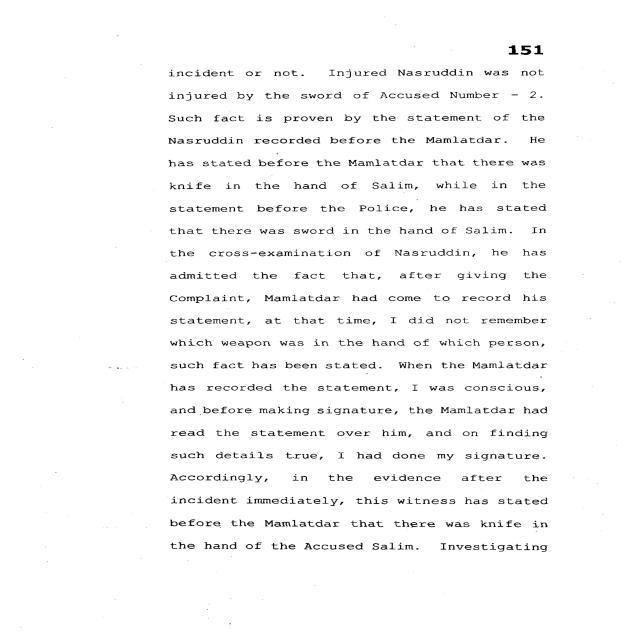page-number: (426, 0, 634, 60)
